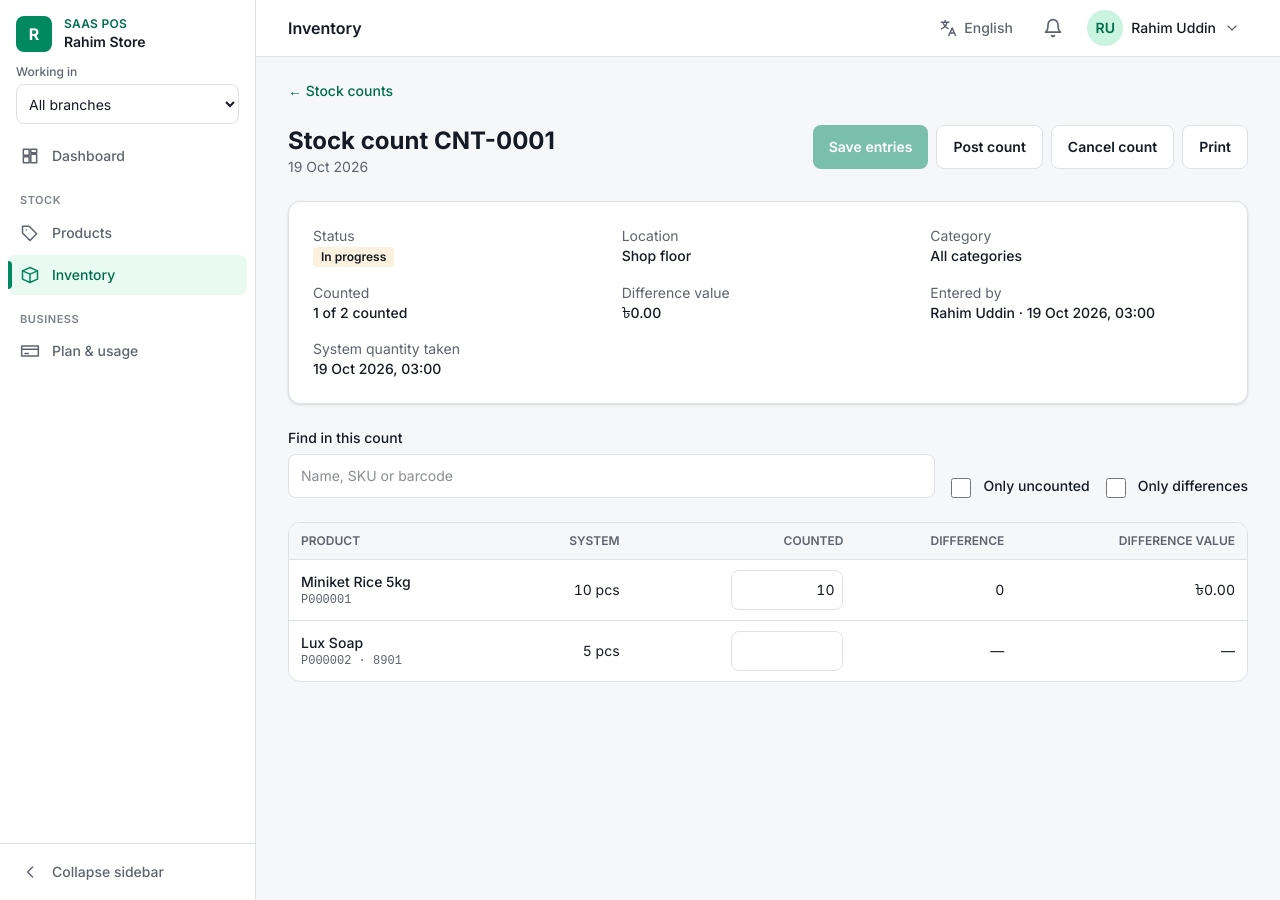
Test case: stock counts › saves only changed entries, clearing a blanked one
Type "4" into the field named "Counted quantity for Lux Soap" at (788, 651), box [732,631,844,671]
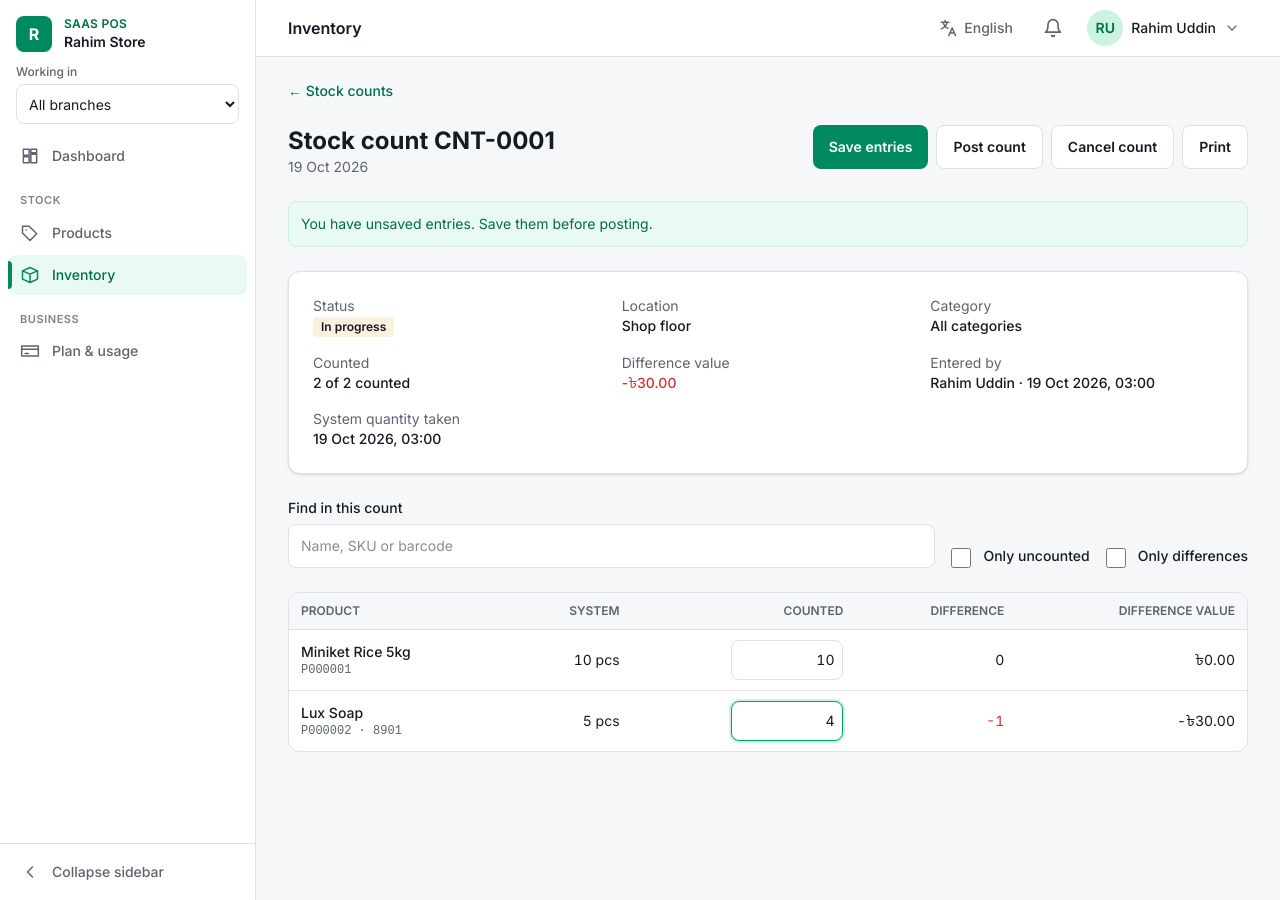
Check: the text "-1" is shown, box [986,712,1004,729]
Clear the field named "Counted quantity for Miniket Rice 5kg" at (788, 660), box [732,640,844,680]
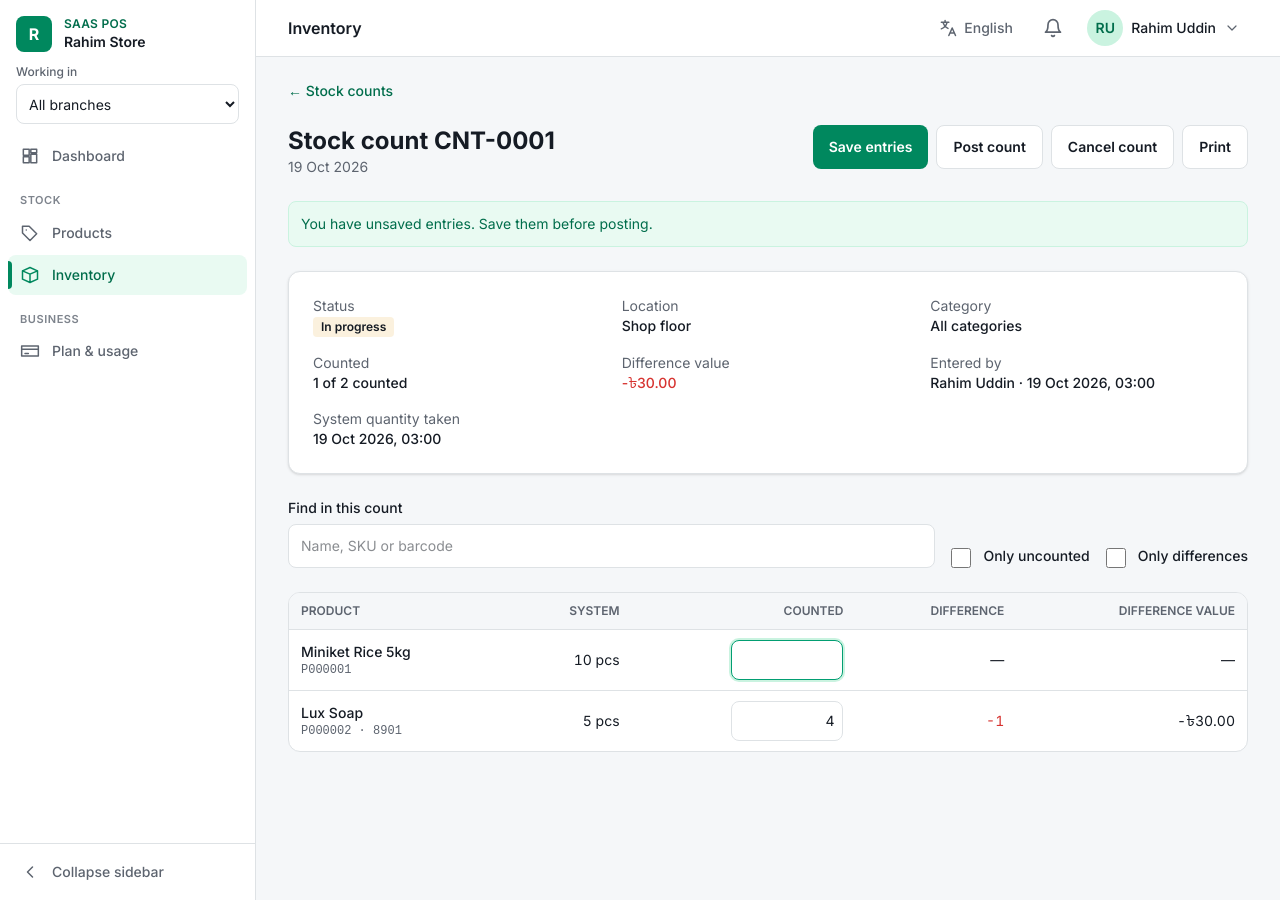
Check: the button "Post count" is disabled, box [936,125,1043,169]
Click the button "Save entries" at (871, 147), box [813,125,928,169]
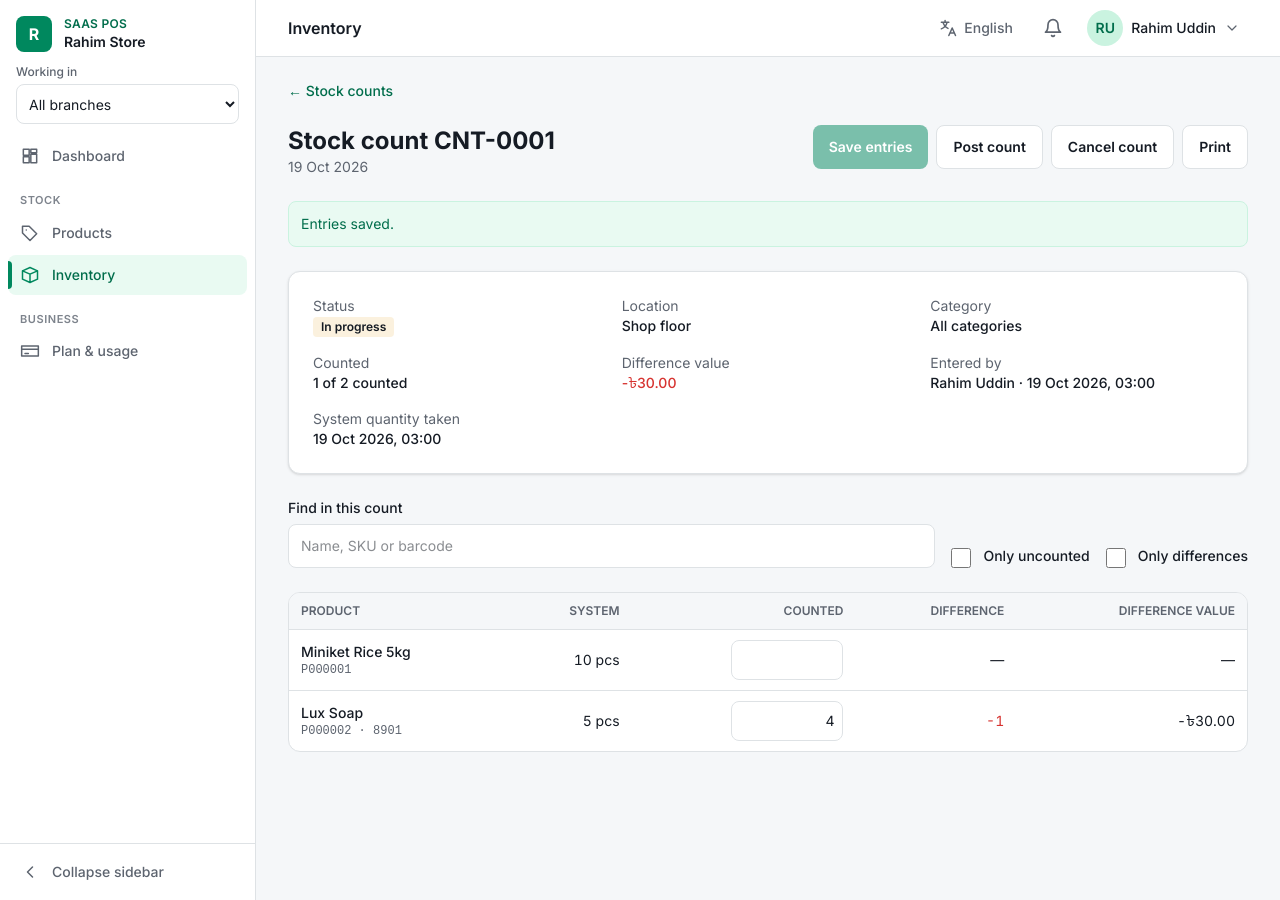
Check: the text "Entries saved." is shown, box [288,201,1248,247]
